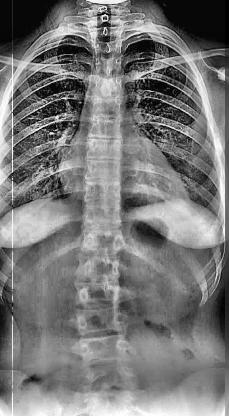Vertebrae: (86, 364, 140, 388), (82, 335, 130, 361), (76, 306, 124, 330), (86, 156, 128, 182), (80, 256, 124, 280), (84, 205, 128, 227), (78, 284, 124, 304), (87, 229, 127, 251), (88, 137, 124, 157), (86, 182, 122, 202), (91, 118, 123, 140), (95, 53, 127, 72), (94, 74, 124, 94), (94, 94, 124, 114), (95, 40, 125, 52)
